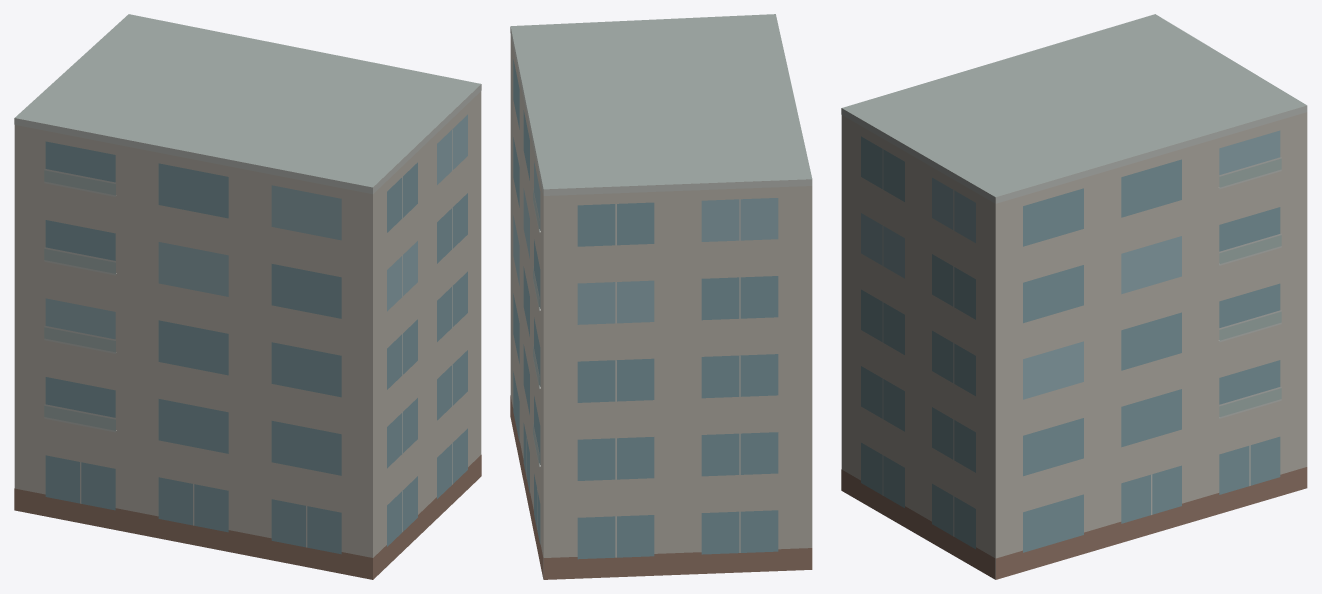
File: survey-upis-32612584.glb
3 renders of one model, left to right at view 1: azimuth 30°, elevation 25°; view 2: azimuth 150°, elevation 25°; view 3: azimuth 270°, elevation 25°, orthographic. The views are drawn at different scales.
Visible parts, largest first — view 1: survey-upis-32612584.tmp; view 2: survey-upis-32612584.tmp; view 3: survey-upis-32612584.tmp.
Part boxes in pixels (bbox=[...]): survey-upis-32612584.tmp: bbox=[14, 14, 481, 579]; survey-upis-32612584.tmp: bbox=[510, 14, 812, 579]; survey-upis-32612584.tmp: bbox=[841, 14, 1307, 579].
Size of the model in its own units: 14.59 by 14.2 by 15.68.
